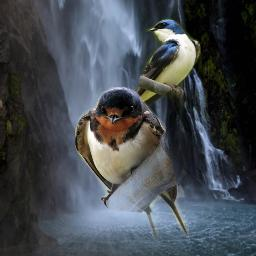Swallow: (75, 87, 189, 237), (119, 18, 201, 119)
